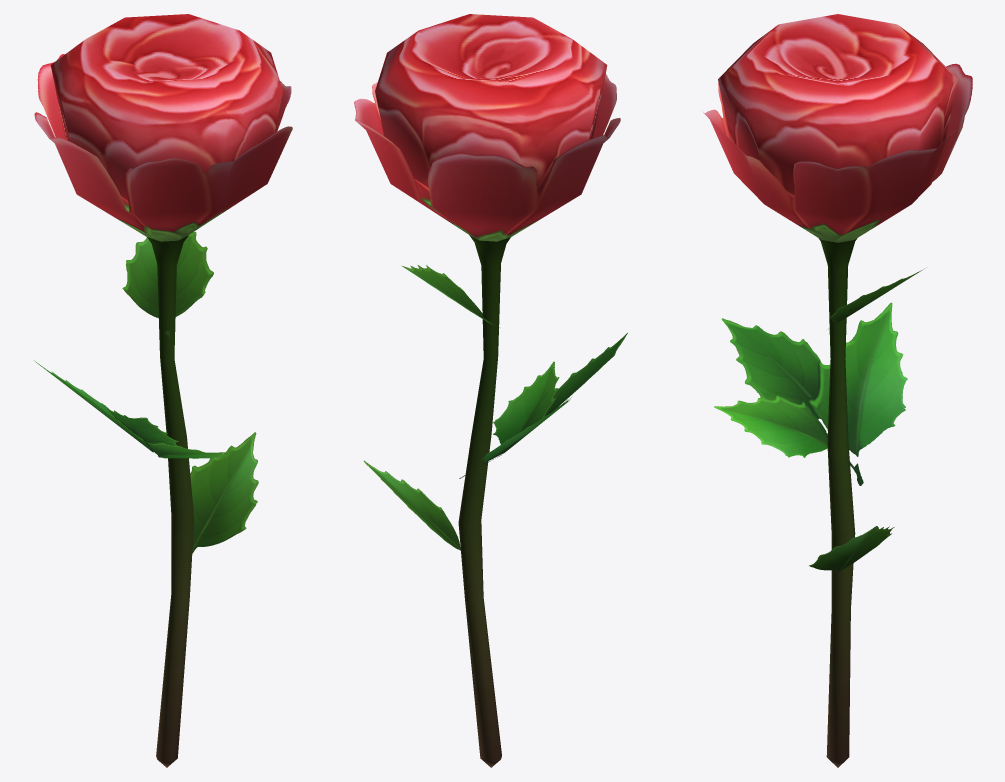
Rendered from SE_Rose_02.fbx.
The picture shows the model from 3 angles, left to right: view 1: azimuth 30°, elevation 25°; view 2: azimuth 150°, elevation 25°; view 3: azimuth 270°, elevation 25°; orthographic projection.
Visible parts, largest first — view 1: SE_Rose_02; view 2: SE_Rose_02; view 3: SE_Rose_02.
Boxes of the visible parts, box(x1,y1,x2,y2) form: SE_Rose_02: box(34, 14, 292, 767); SE_Rose_02: box(354, 14, 627, 767); SE_Rose_02: box(702, 14, 972, 767).
Bounding box in the file's own units: 0.8535 × 2.21 × 0.8535.
